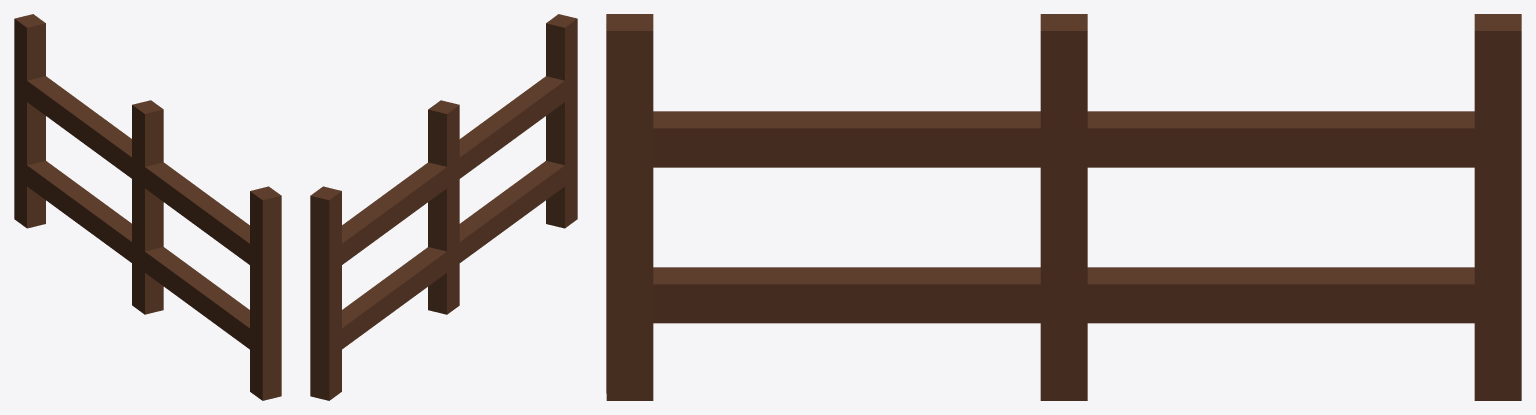
Rendered from Staccionata 3.fbx.
3 views of the same model, side by side, from view 1: azimuth 30°, elevation 25°; view 2: azimuth 150°, elevation 25°; view 3: azimuth 270°, elevation 25° (orthographic). The views are drawn at different scales.
Visible parts, largest first — view 1: Steccato 2; view 2: Steccato 2; view 3: Steccato 2.
Part boxes in pixels (bbox=[...]): Steccato 2: bbox=[14, 14, 281, 400]; Steccato 2: bbox=[310, 14, 577, 400]; Steccato 2: bbox=[606, 14, 1521, 400].
Size of the model in its own units: 18.76 by 189 by 424.
